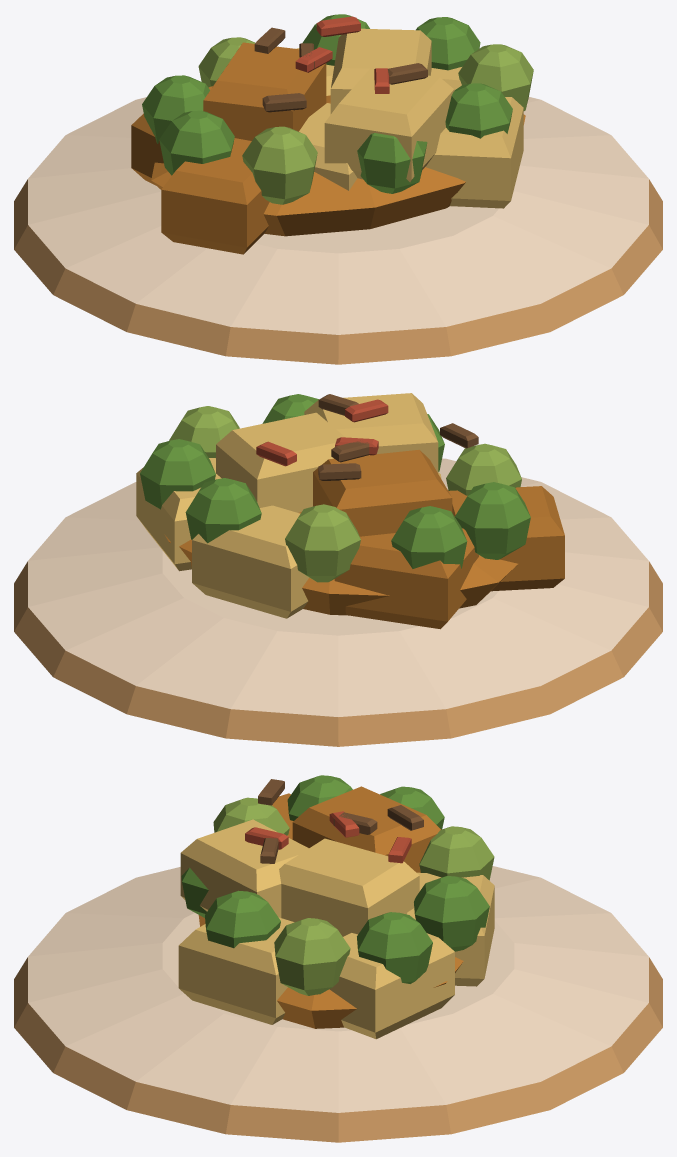
The model's file is open.obj.
The picture shows the model from 3 angles, top to bottom: view 1: azimuth 30°, elevation 25°; view 2: azimuth 150°, elevation 25°; view 3: azimuth 270°, elevation 25°; orthographic projection.
Parts seen in each view (by area): view 1: open; view 2: open; view 3: open.
Boxes of the visible parts, x1,y1,x2,y2 form: open: (14,14,662,364); open: (14,393,662,746); open: (14,775,662,1142).
Bounding box in the file's own units: 0.554 × 0.1889 × 0.5456.
